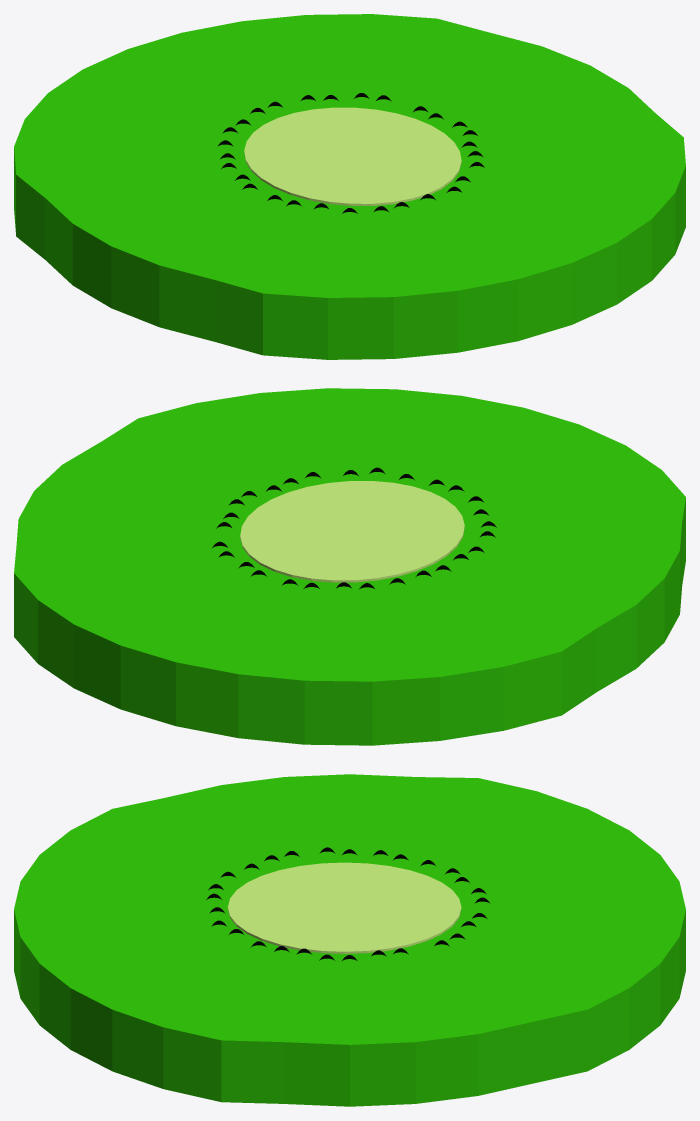
Rendered from kiwi_slice_1.glb.
3 renders of one model, top to bottom at view 1: azimuth 30°, elevation 25°; view 2: azimuth 150°, elevation 25°; view 3: azimuth 270°, elevation 25°, orthographic. The views are drawn at different scales.
Parts seen in each view (by area): view 1: Cylinder; view 2: Cylinder; view 3: Cylinder.
Part boxes in pixels (left/top/right/bottom): Cylinder: left=14, top=14, right=685, bottom=359; Cylinder: left=14, top=388, right=685, bottom=745; Cylinder: left=14, top=774, right=685, bottom=1106.
Size of the model in its own units: 1.91 by 0.2503 by 2.
